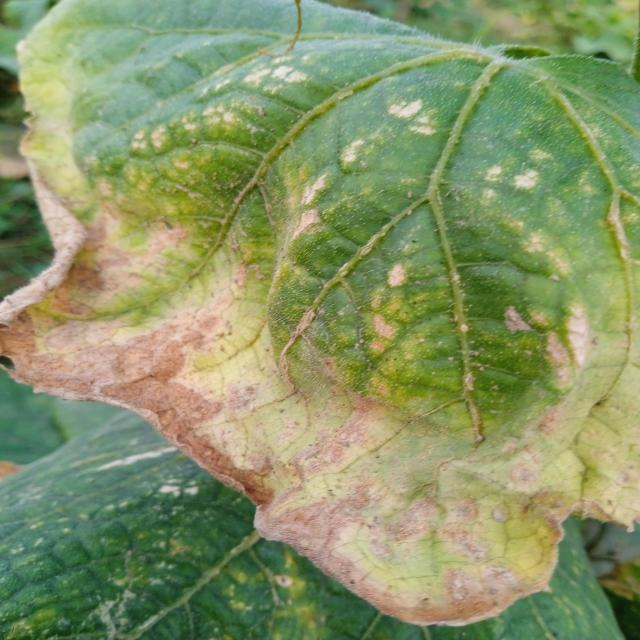cucumber_gummy: (0, 3, 640, 636)
